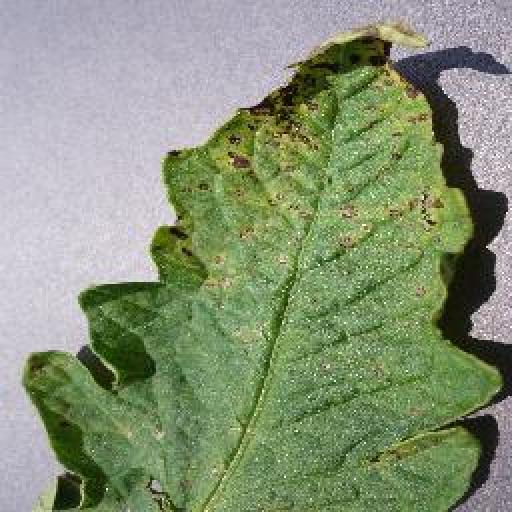Septoria: (26, 22, 502, 512)
